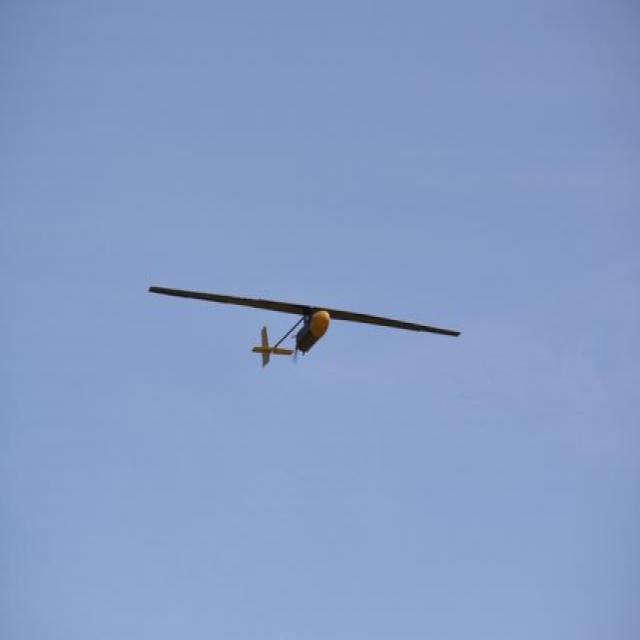iha: (147, 300, 448, 336)
